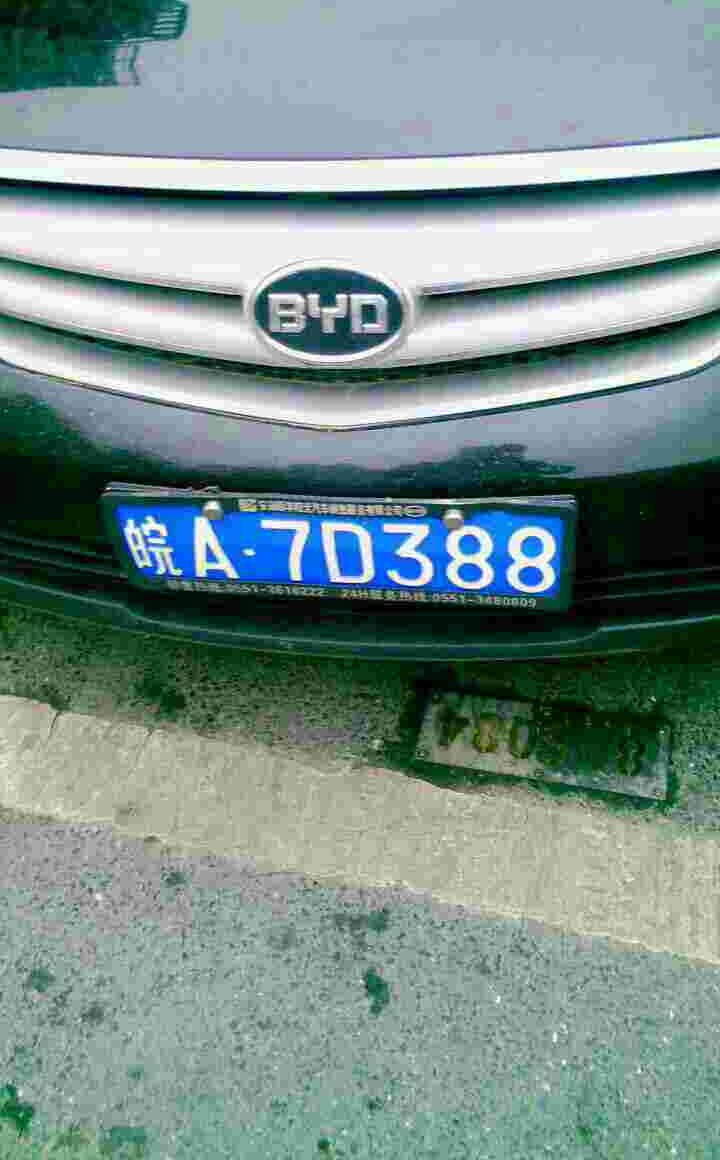license_plate: (124, 502, 582, 602)
